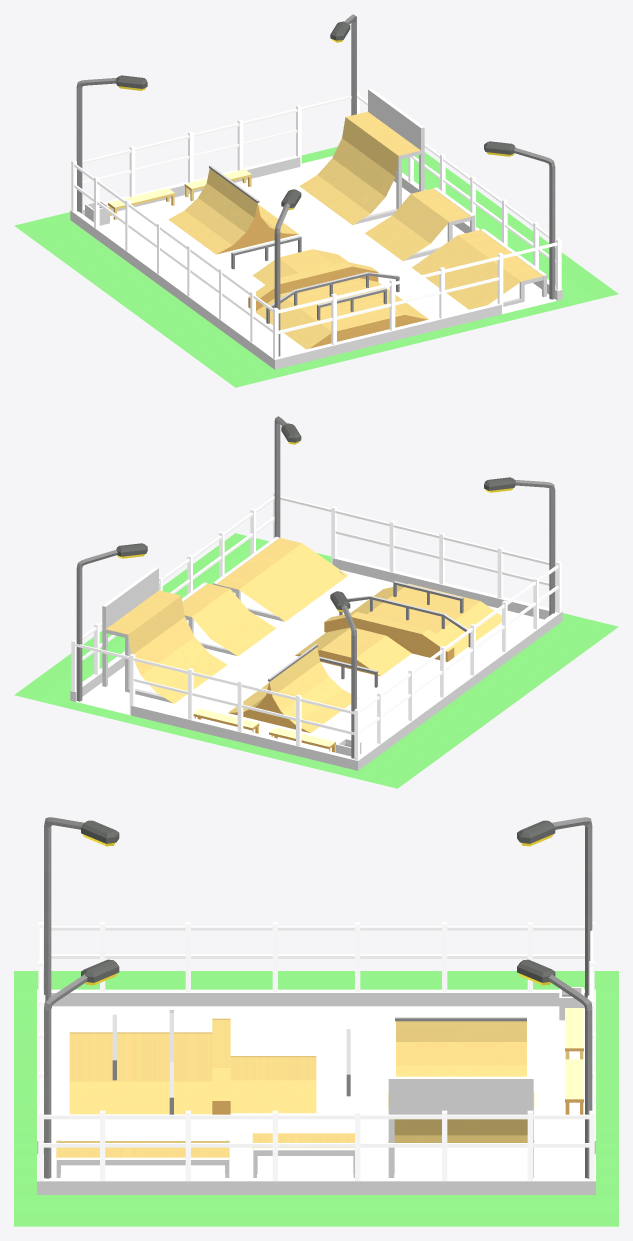
The model's file is landscape_entertainments.glb.
The picture shows the model from 3 angles, top to bottom: view 1: azimuth 30°, elevation 25°; view 2: azimuth 150°, elevation 25°; view 3: azimuth 270°, elevation 25°; orthographic projection. The views are drawn at different scales.
Parts seen in each view (by area): view 1: landscape_entertainments(Clone); view 2: landscape_entertainments(Clone); view 3: landscape_entertainments(Clone).
Boxes of the visible parts, box(x1,y1,x2,y2) form: landscape_entertainments(Clone): box(14, 14, 618, 387); landscape_entertainments(Clone): box(14, 416, 618, 788); landscape_entertainments(Clone): box(14, 817, 618, 1226).
Bounding box in the file's own units: 16 × 6.16 × 16.
Materials: 1 (1 with a texture image).
